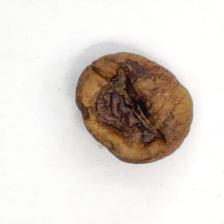NG: (75, 52, 165, 119), (98, 113, 181, 164)
